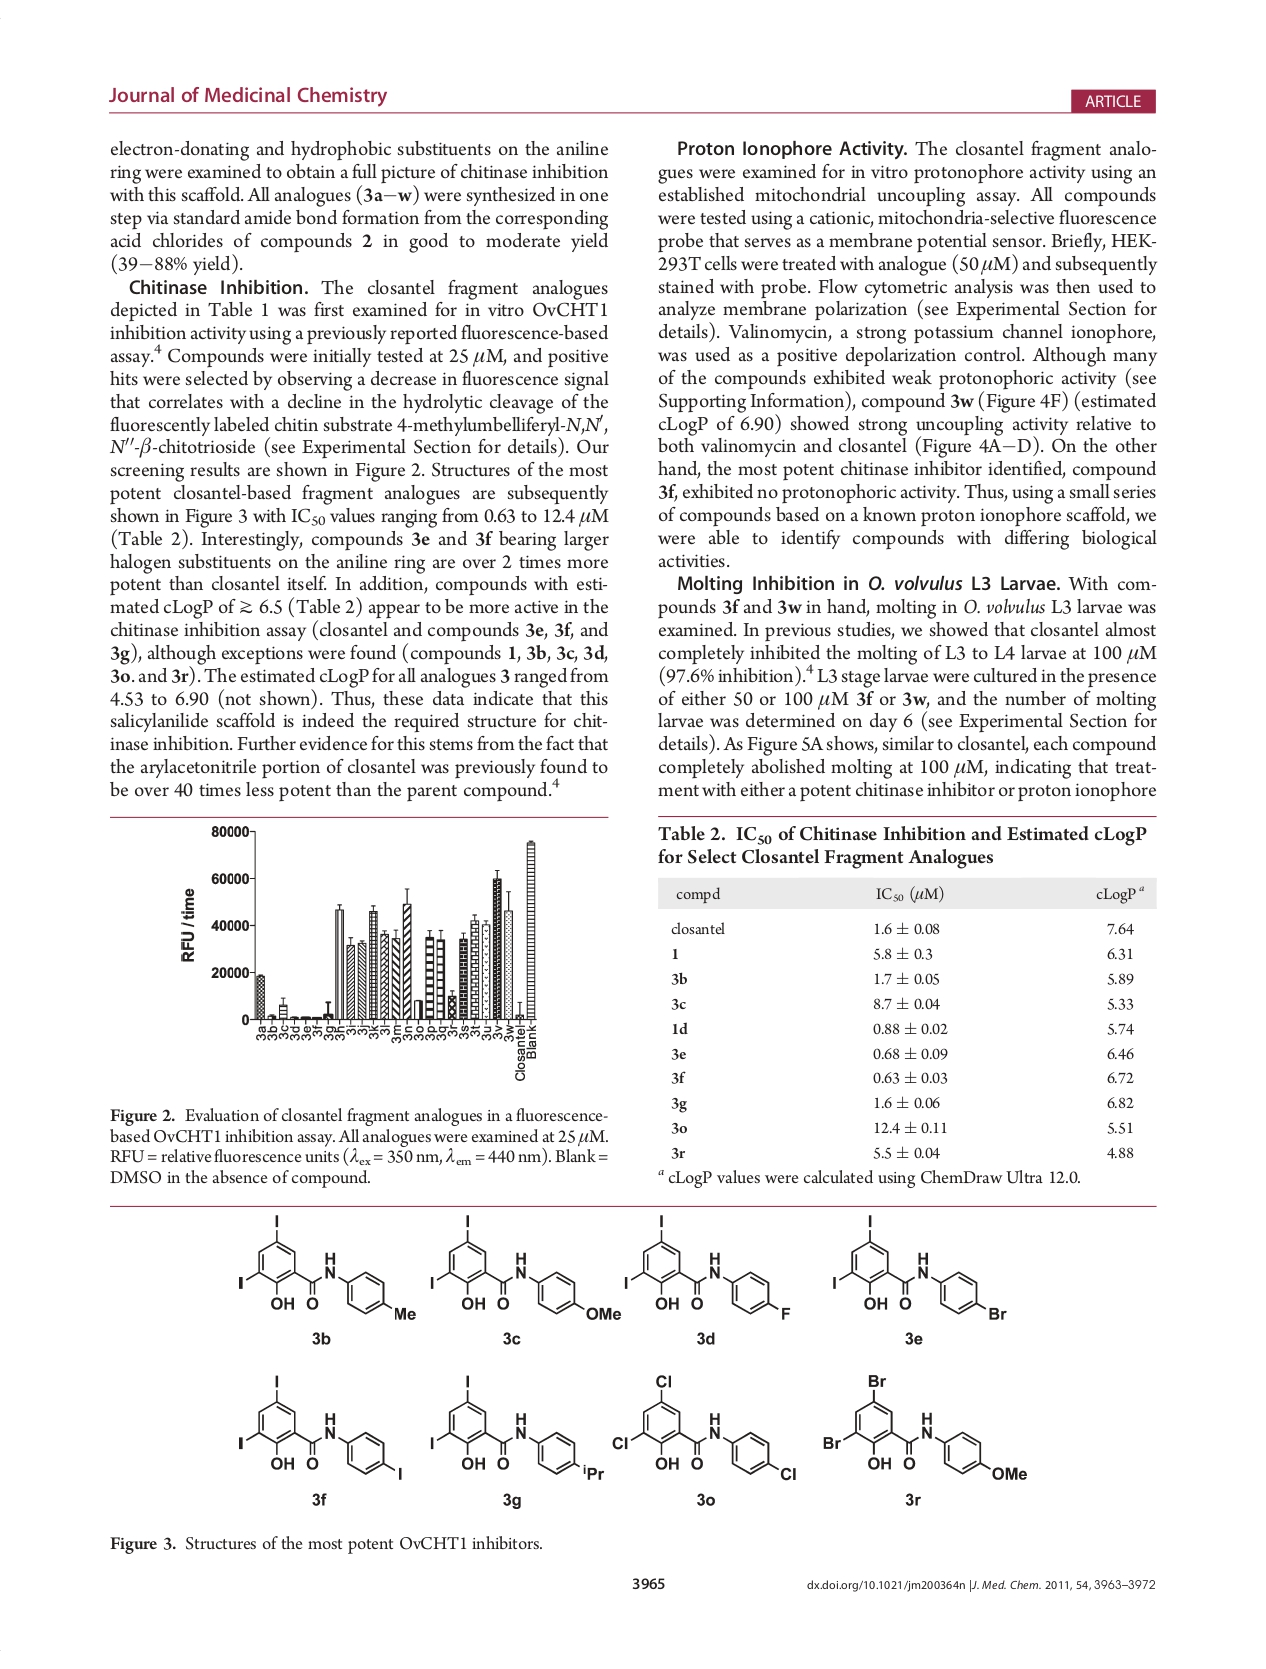exist_molecular: (821, 1372, 1031, 1484), (428, 1213, 622, 1321), (610, 1372, 797, 1481), (234, 1213, 418, 1323), (828, 1212, 1009, 1323), (428, 1372, 606, 1483), (235, 1372, 407, 1483), (622, 1212, 791, 1322)
